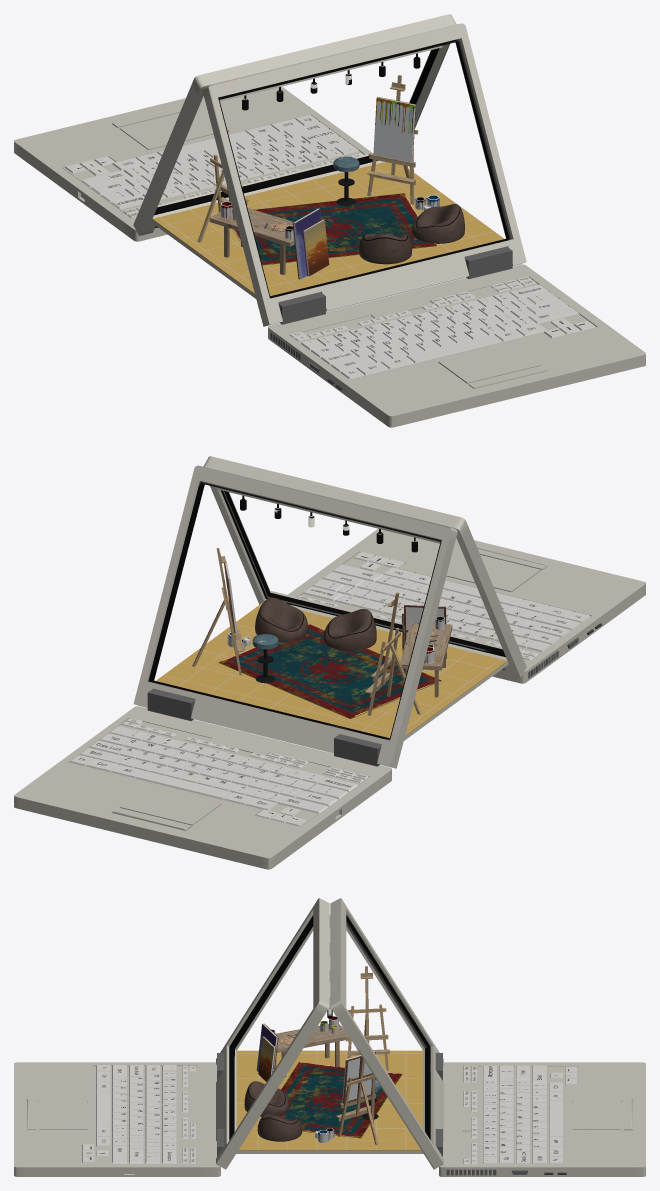
Rendered from laptop1-transformed.glb.
The picture shows the model from 3 angles, top to bottom: view 1: azimuth 30°, elevation 25°; view 2: azimuth 150°, elevation 25°; view 3: azimuth 270°, elevation 25°; orthographic projection. The views are drawn at different scales.
Visible parts, largest first — view 1: Cube.002, Cube.011, Cube.004, Cube.030, Cube.029, Cube.027, Sphere.001, Cube.016, Cube.026, Cube.020, Cylinder, Cylinder.008; view 2: Cube.002, Cube.011, Cube.004, Cube.030, Cube.029, Sphere.001, Cube.026, Cube.016, Cube.020, Cube.027, Cylinder; view 3: Cube.002, Cube.004, Cube.011, Cube.030, Cube.029, Cube.026, Sphere.001, Cube.027, Cube.020, Cube.005, Cube.016, Cylinder.008.
Part boxes in pixels (bbox=[...]): Cube.002: bbox=[14, 86, 645, 427]; Cube.011: bbox=[133, 14, 526, 326]; Cube.004: bbox=[65, 114, 594, 379]; Cube.030: bbox=[152, 162, 504, 295]; Cube.029: bbox=[232, 193, 436, 265]; Cube.027: bbox=[292, 97, 415, 279]; Sphere.001: bbox=[359, 204, 464, 264]; Cube.016: bbox=[155, 226, 512, 324]; Cube.026: bbox=[197, 75, 418, 242]; Cube.020: bbox=[209, 207, 294, 274]; Cylinder: bbox=[333, 156, 359, 205]; Cylinder.008: bbox=[221, 195, 439, 239]; Cube.002: bbox=[14, 528, 645, 869]; Cube.011: bbox=[133, 456, 526, 768]; Cube.004: bbox=[70, 552, 589, 826]; Cube.030: bbox=[156, 602, 507, 737]; Cube.029: bbox=[218, 624, 441, 718]; Sphere.001: bbox=[255, 597, 376, 650]; Cube.026: bbox=[192, 548, 421, 715]; Cube.016: bbox=[147, 668, 504, 766]; Cube.020: bbox=[400, 622, 452, 697]; Cube.027: bbox=[224, 561, 446, 658]; Cylinder: bbox=[252, 633, 278, 683]; Cube.002: bbox=[14, 1062, 645, 1176]; Cube.004: bbox=[82, 1065, 577, 1164]; Cube.011: bbox=[216, 898, 443, 1169]; Cube.030: bbox=[236, 1050, 423, 1150]; Cube.029: bbox=[257, 1062, 402, 1138]; Cube.026: bbox=[336, 966, 390, 1145]; Sphere.001: bbox=[244, 1081, 302, 1141]; Cube.027: bbox=[256, 1023, 375, 1103]; Cube.020: bbox=[275, 1024, 348, 1077]; Cube.005: bbox=[236, 1150, 423, 1153]; Cube.016: bbox=[217, 1053, 442, 1156]; Cylinder.008: bbox=[271, 1016, 338, 1142].
Size of the model in its own units: 122 by 93.31 by 305.
Materials: 21 (21 with a texture image).
